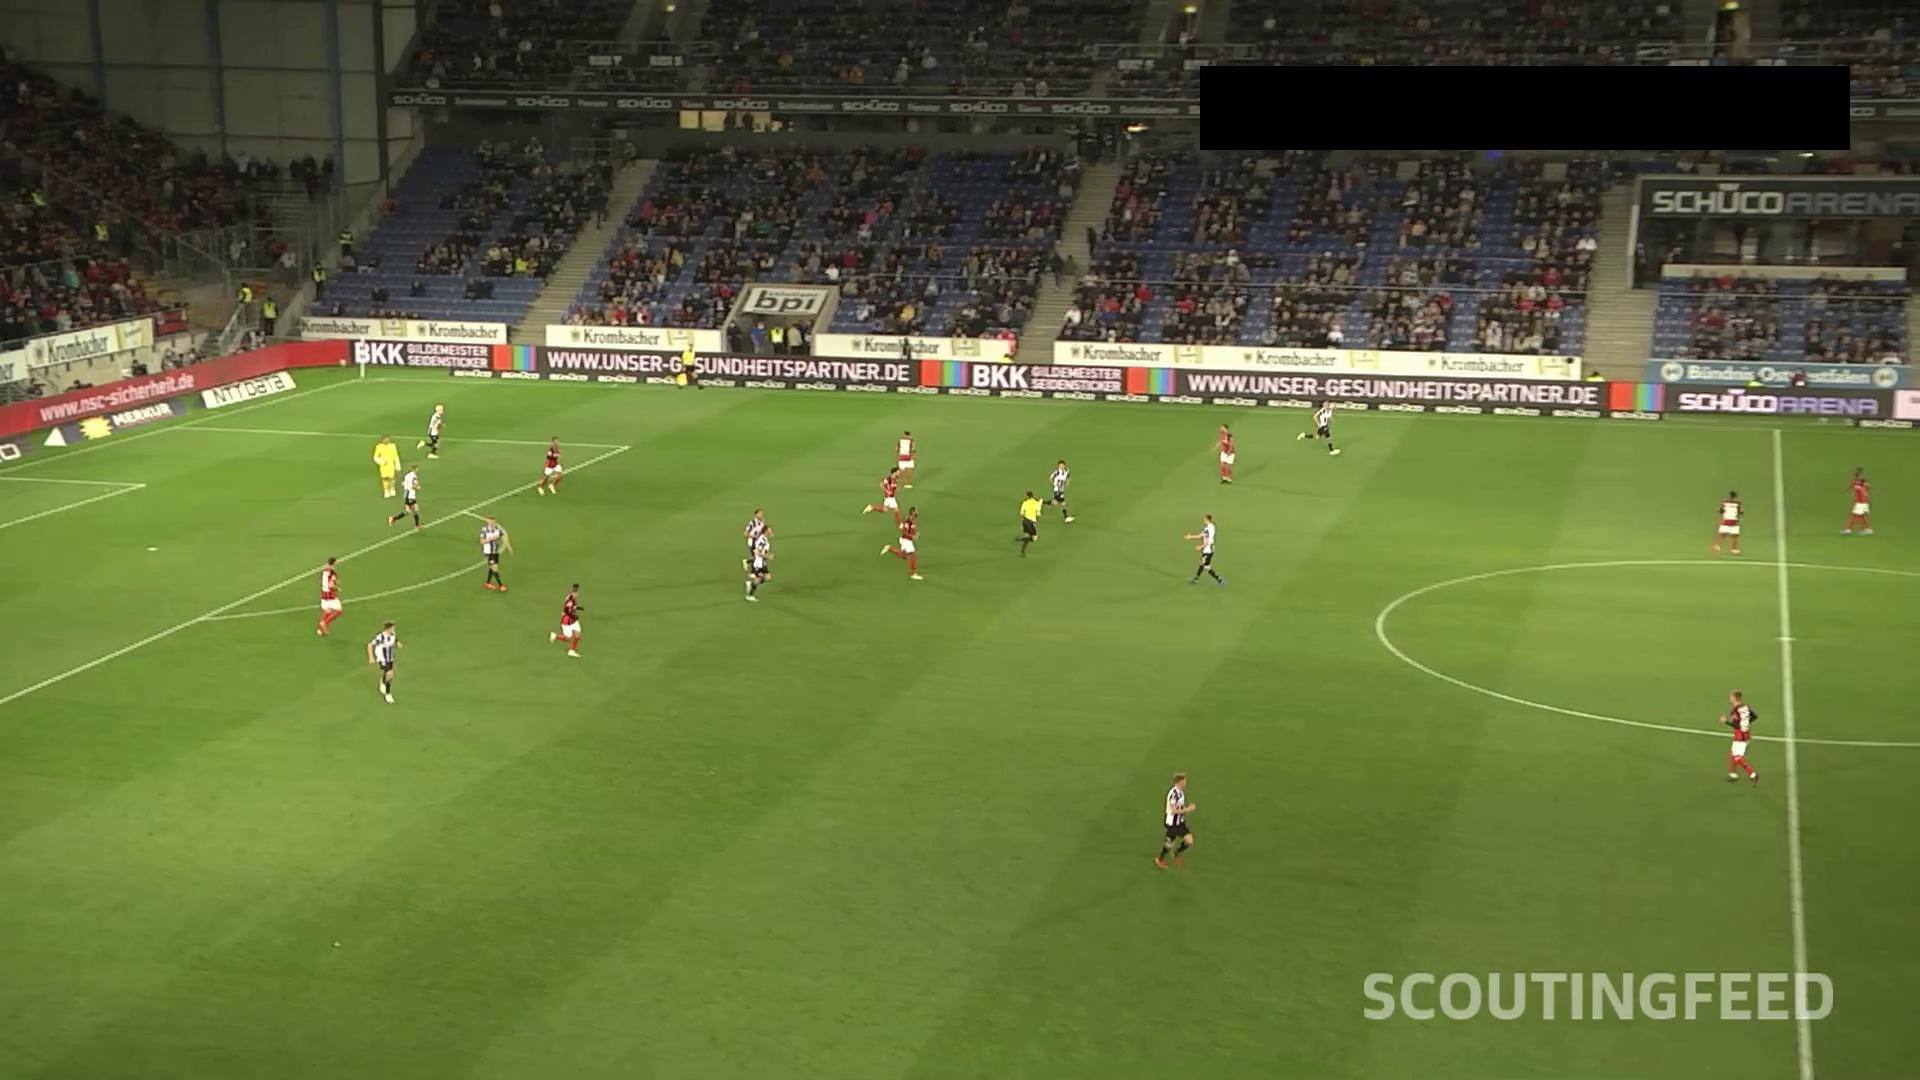Location-of-ball: (373, 450, 389, 472)
